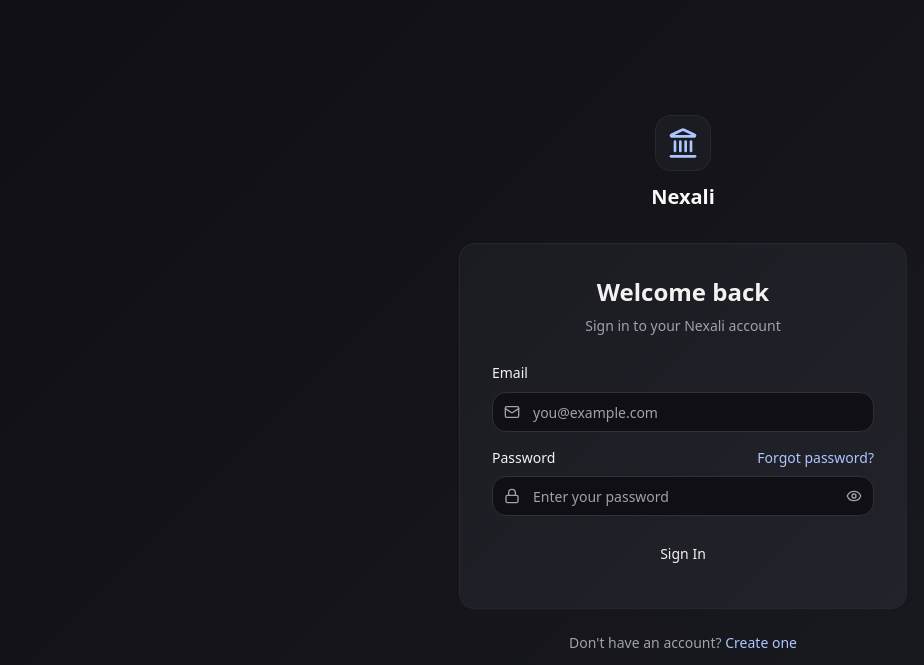
Test case: SignIn › toggles password visibility without altering the entered value
Type "hunter22" into the password field labelled "Password" at [683, 496], box x1=492 y1=476 x2=874 y2=516
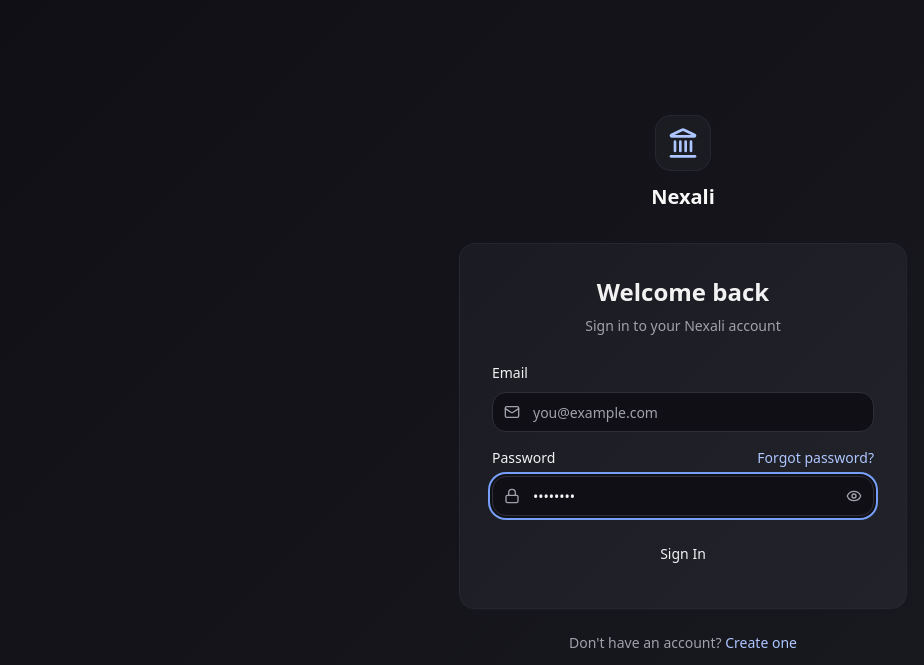
Click the button named "show password" at [854, 496], box x1=842 y1=484 x2=866 y2=508
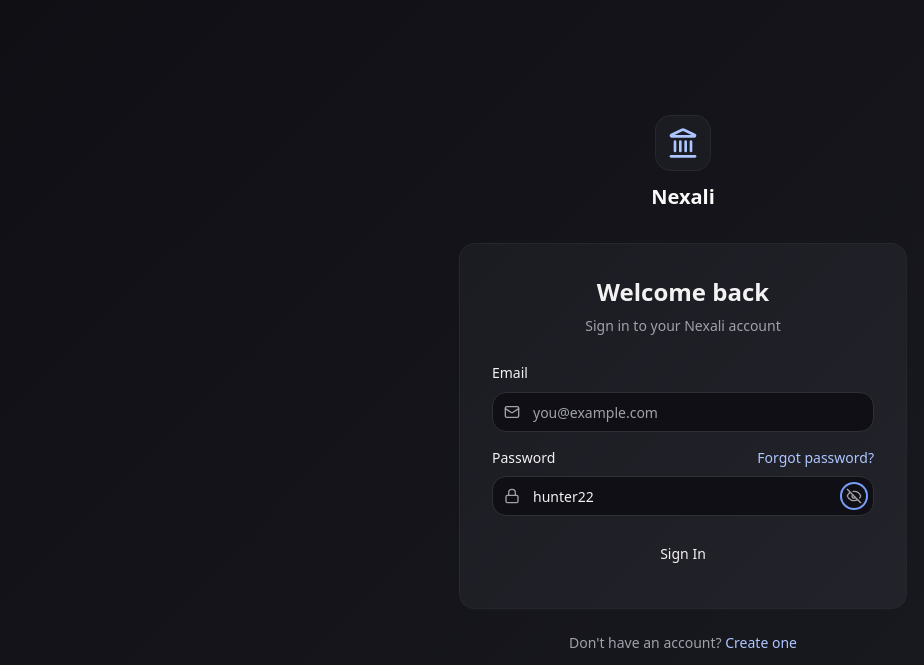
Result: the field labelled "Password" shows its text at x1=492 y1=476 x2=874 y2=516
Click the button named "hide password" at [854, 496], box x1=842 y1=484 x2=866 y2=508
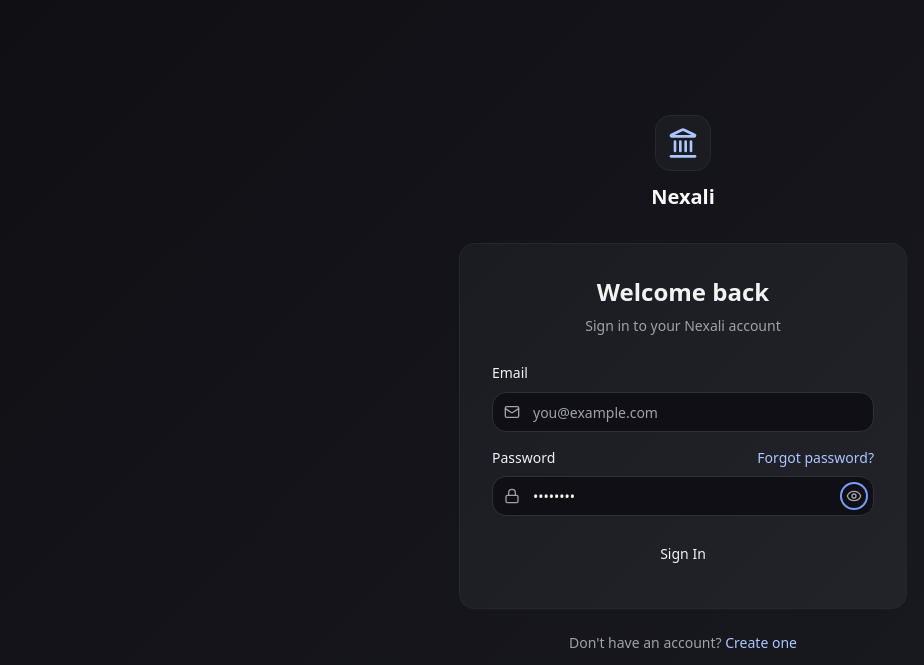
Result: the password field labelled "Password" hides its text at x1=492 y1=476 x2=874 y2=516
